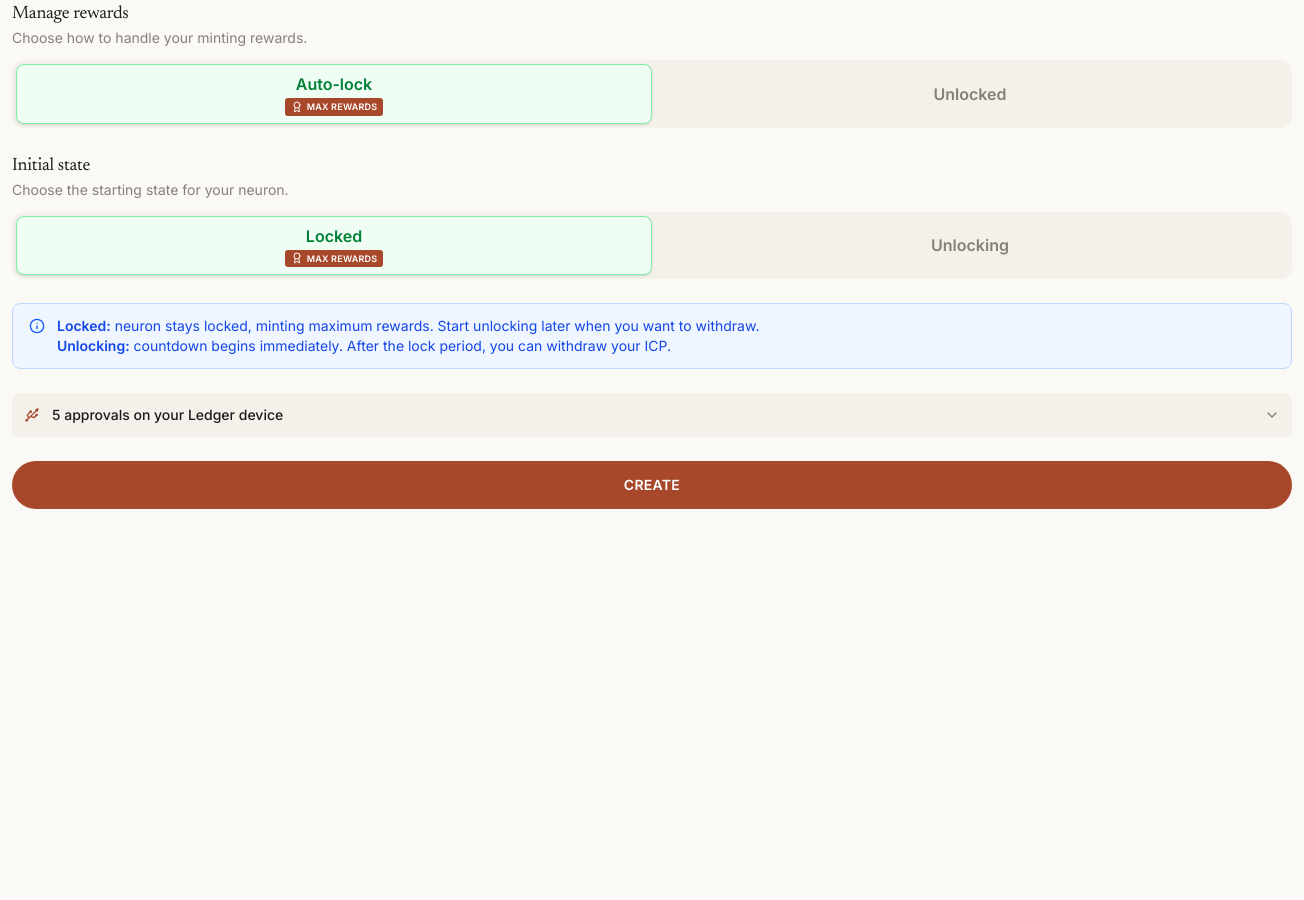
Scenario: StakingWizardStepConfiguration with a Ledger device account › counts the device approvals and lists the steps with their purpose on demand
This screenshot has width=1304, height=900.
Click the button "5 approvals on your Ledger device" at (168, 414), box [12, 393, 1292, 437]
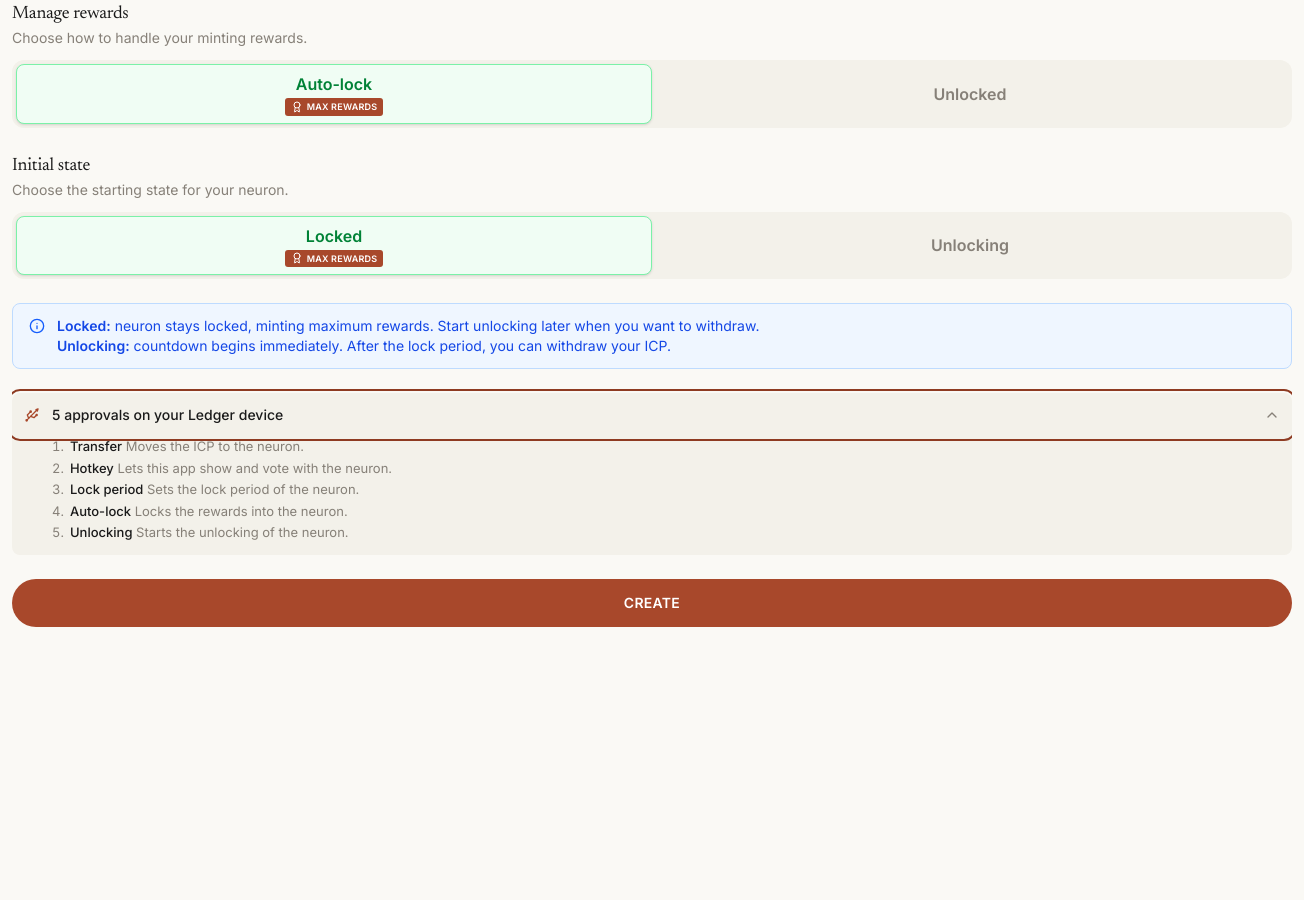
Now the button "5 approvals on your Ledger device" is expanded, box [12, 393, 1292, 437]
Now the list items read "1.Transfer Moves the ICP to the neuron.", "2.Hotkey Lets this app show and vote with the neuron.", "3.Lock period Sets the lock period of the neuron.", "4.Auto-lock Locks the rewards into the neuron.", "5.Unlocking Starts the unlocking of the neuron.", in this order, box [52, 438, 304, 454]; [52, 460, 392, 476]; [52, 481, 359, 497]; [52, 502, 348, 518]; [52, 524, 349, 540]
